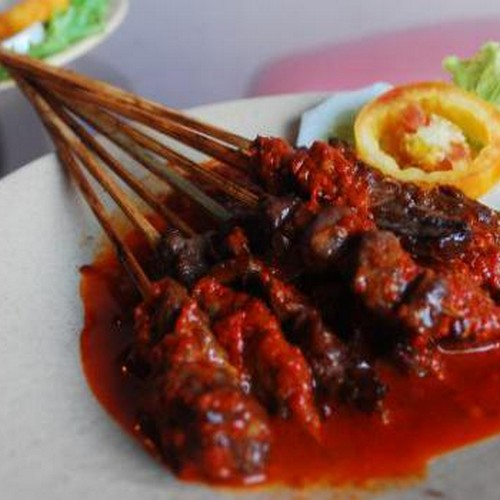sate plecing: (123, 222, 363, 477), (247, 127, 500, 338)
